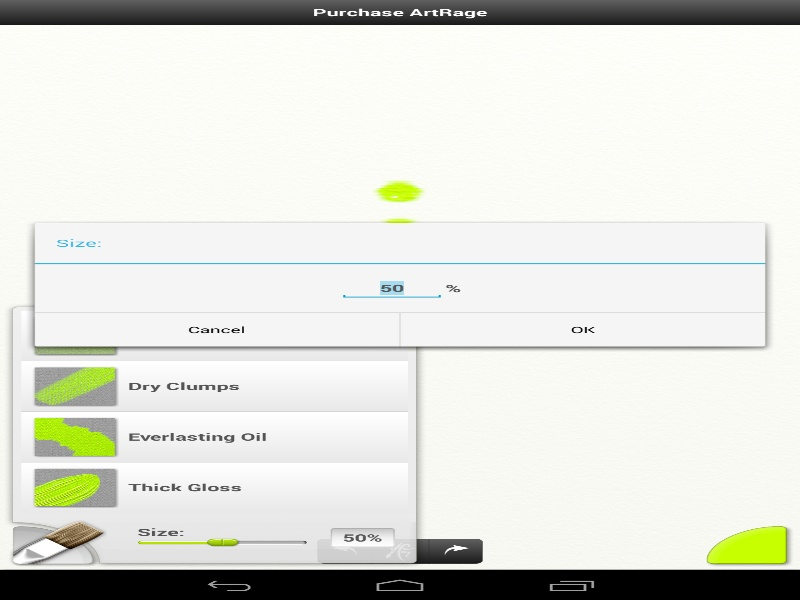Button: (34, 312, 399, 346), (400, 312, 765, 346)
Input: (338, 276, 445, 299)
